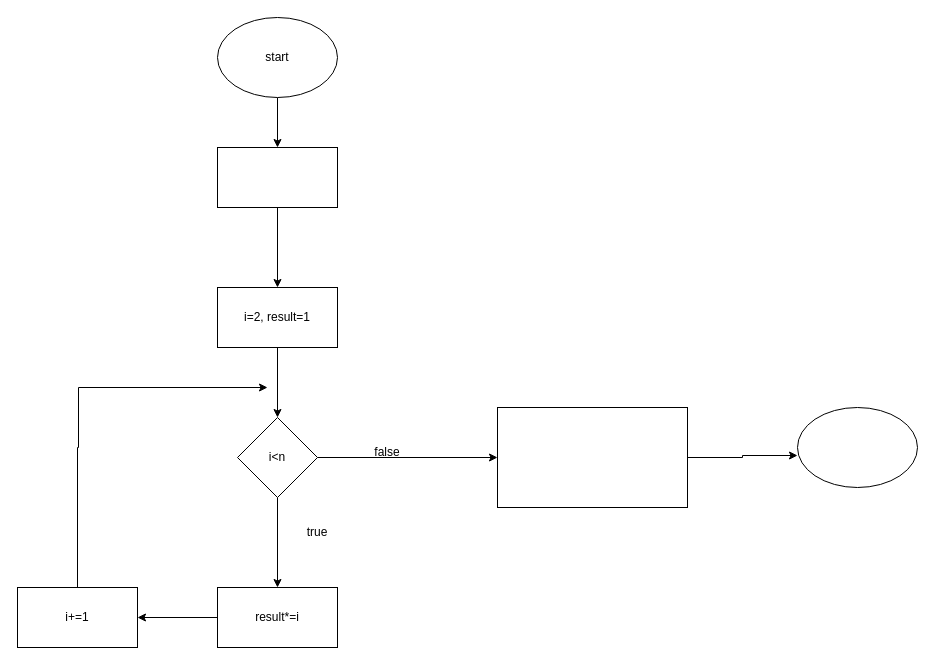
This 935x665 diagram has some shape labels left out. The shapes that lost their labels are listed below. From the top down, each one's box as (x1, y1, x2, y2) in pixels, then its label:
(216, 146, 338, 208): Nhap N
(496, 406, 688, 508): giai thừa của số đó là result
